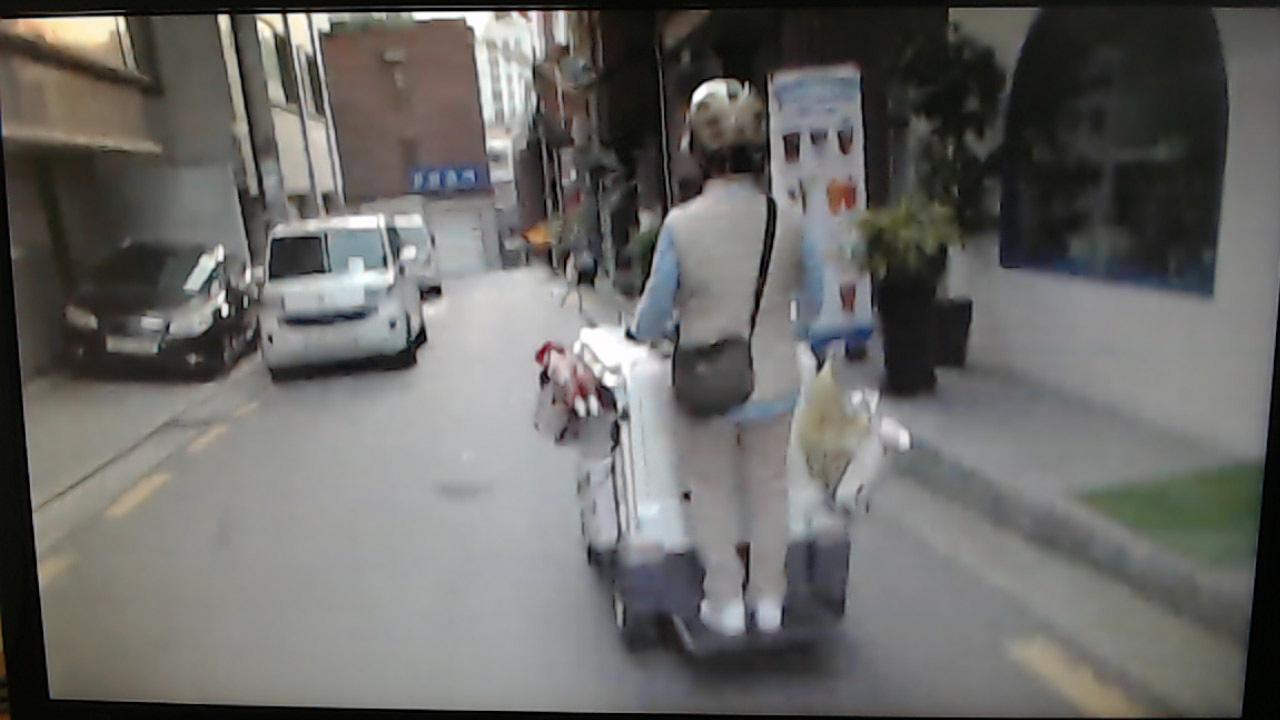Yakurut: (628, 74, 846, 657)
